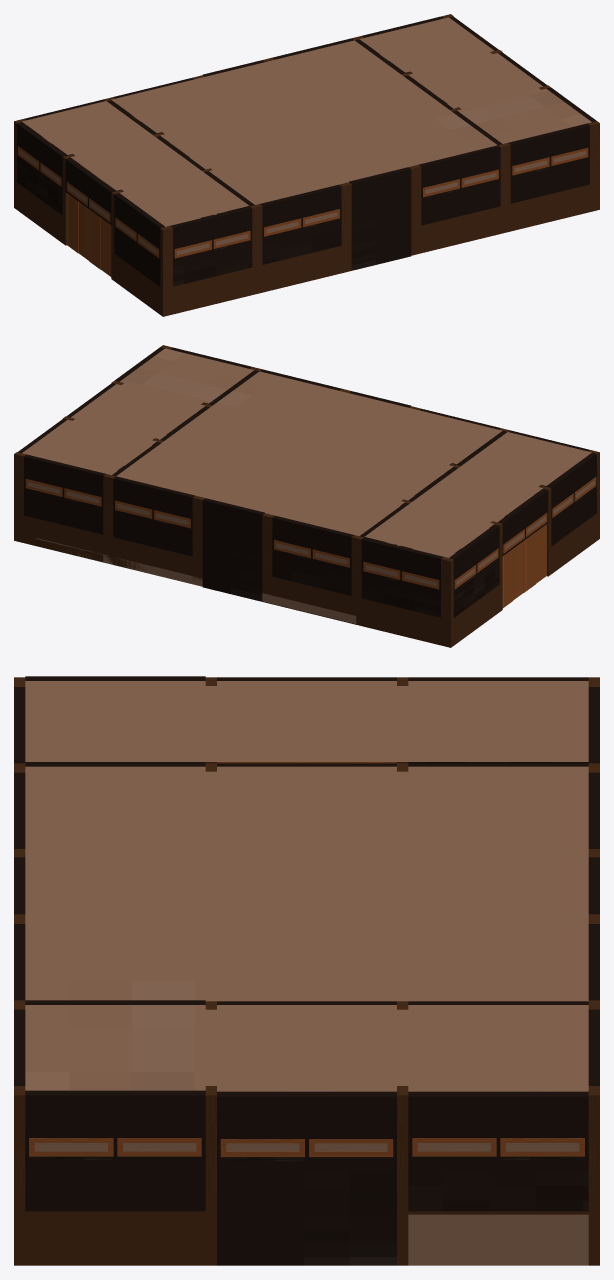
Rendered from Unity dojo (1).FBX.
3 renders of one model, top to bottom at view 1: azimuth 30°, elevation 25°; view 2: azimuth 150°, elevation 25°; view 3: azimuth 270°, elevation 25°, orthographic. The views are drawn at different scales.
Visible parts, largest first — view 1: Roof, wall back, Wall left, Door, Paraphet base_03, Paraphet base_04, Paraphet base_09, Paraphet base_10, Beam, Wall front, Paraphet base_00, Paraphet base_01 (+16 smaller); view 2: Roof, Wall front, Wall left, Door, Paraphet base_06, Paraphet base_08, Platform, Paraphet base_07, Paraphet base_05, Beam, wall back, Paraphet base_01 (+17 smaller); view 3: Roof, wall right, Paraphet base_12, Paraphet base_11, Beam, Wall front, wall back, Wall left, Pillar12, Pillar13, Pillar14, Pillar15 (+10 smaller).
Boxes of the visible parts, x1,y1,x2,y2 form: Roof: (22,17,591,226); wall back: (170,123,589,286); Wall left: (17,122,164,286); Door: (66,192,111,276); Paraphet base_03: (173,269,252,314); Paraphet base_04: (262,247,341,292); Paraphet base_09: (510,186,589,231); Paraphet base_10: (421,208,500,253); Beam: (107,39,501,211); Wall front: (24,16,443,164); Paraphet base_00: (114,255,160,314); Paraphet base_01: (17,184,62,242); Roof: (22,348,591,557); Wall front: (24,454,443,617); Wall left: (449,452,596,617); Door: (502,524,546,608); Paraphet base_06: (361,600,440,645); Paraphet base_08: (24,517,103,562); Platform: (36,538,356,623); Paraphet base_07: (113,539,192,575); Paraphet base_05: (272,578,351,623); Beam: (112,370,506,542); wall back: (170,347,589,495); Paraphet base_01: (453,586,499,645); Roof: (25,681,588,1090); wall right: (25,1090,588,1265); Paraphet base_12: (25,1214,205,1265); Paraphet base_11: (408,1214,588,1265); Beam: (25,762,588,1004); Wall front: (588,687,599,1085); wall back: (14,687,25,1085); Wall left: (25,676,588,763); Pillar12: (205,1086,216,1265); Pillar13: (14,1086,25,1265); Pillar14: (588,1086,599,1265); Pillar15: (397,1086,408,1265).
Size of the model in its own units: 1056 by 201 by 624.
